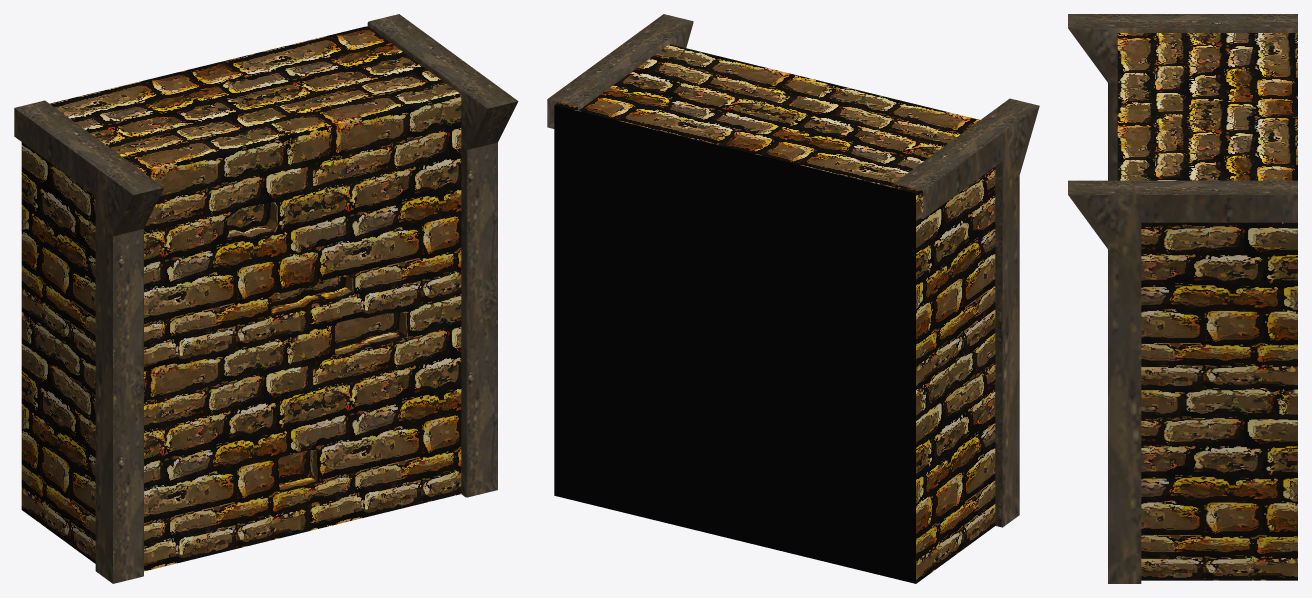
Rendered from stoneWallB.fbx.
The picture shows the model from 3 angles, left to right: view 1: azimuth 30°, elevation 25°; view 2: azimuth 150°, elevation 25°; view 3: azimuth 270°, elevation 25°; orthographic projection. The views are drawn at different scales.
Visible parts, largest first — view 1: stoneWallB; view 2: stoneWallB; view 3: stoneWallB.
Boxes of the visible parts, <box> form: stoneWallB: <box>14,14,518,583</box>; stoneWallB: <box>547,14,1039,583</box>; stoneWallB: <box>1068,14,1297,583</box>.
Size of the model in its own units: 300 by 301 by 161.
